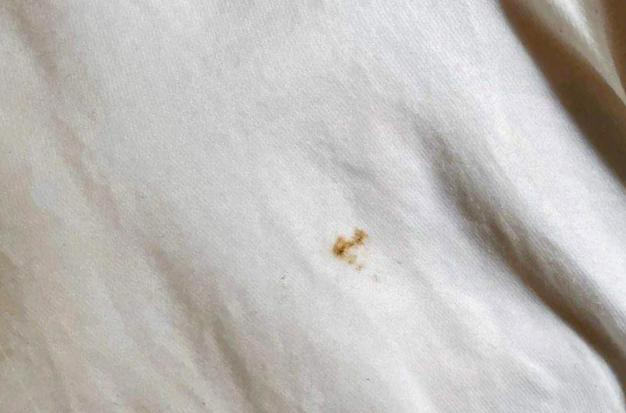stain: (328, 226, 370, 275)
